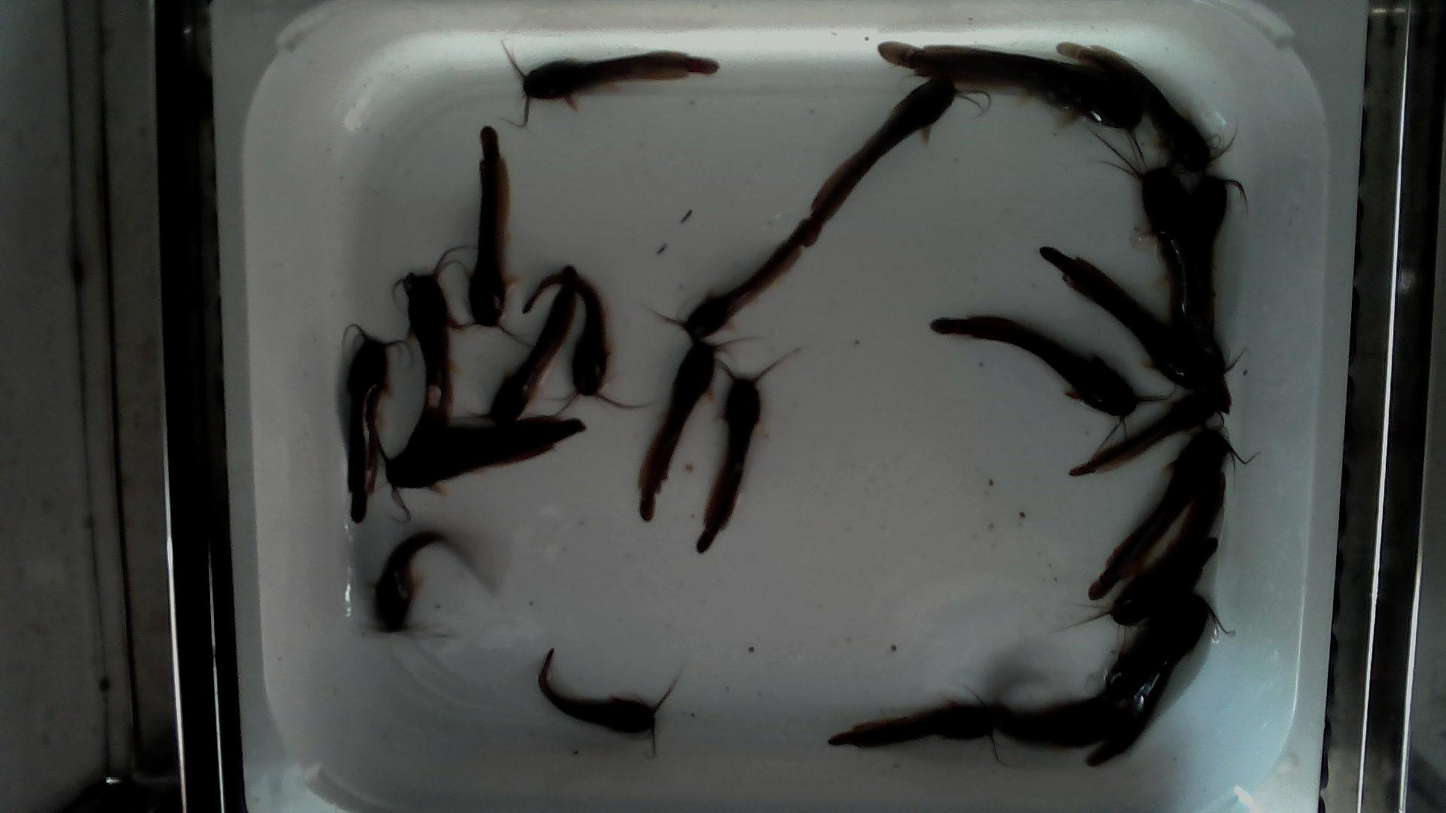lele: (1098, 131, 1224, 373), (927, 317, 1174, 440), (809, 75, 996, 226), (1040, 242, 1221, 385), (1069, 474, 1223, 627), (1060, 40, 1238, 172), (884, 44, 1145, 133), (1092, 428, 1230, 595), (496, 36, 718, 129), (695, 352, 792, 556), (644, 222, 815, 336), (527, 269, 650, 420), (1098, 600, 1208, 762), (454, 125, 531, 349), (1110, 538, 1219, 694), (536, 649, 681, 755), (1066, 390, 1231, 477), (387, 419, 588, 490), (638, 341, 717, 520), (346, 320, 414, 524), (833, 702, 1022, 769), (396, 249, 456, 445), (376, 533, 486, 634), (491, 287, 573, 422), (979, 696, 1126, 746), (1196, 175, 1251, 243)
